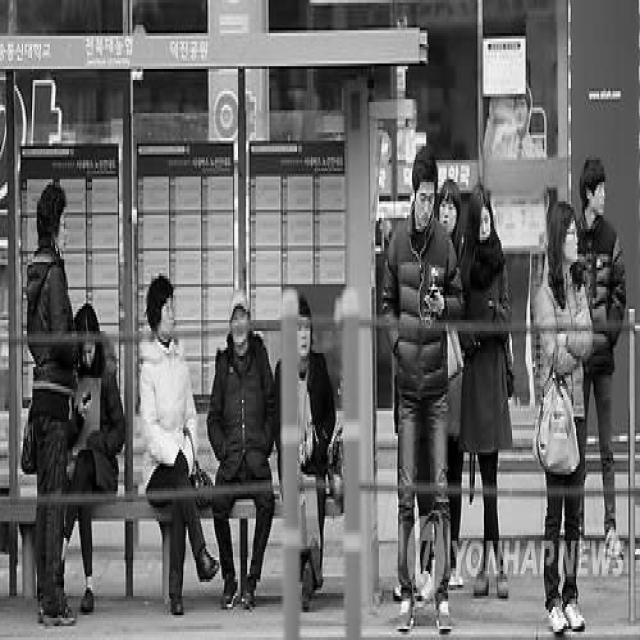person: (391, 146, 458, 640), (139, 266, 209, 625), (24, 170, 76, 632), (575, 148, 622, 590), (540, 194, 583, 640), (471, 162, 513, 616), (220, 290, 268, 610), (70, 293, 116, 603), (288, 301, 332, 606), (440, 196, 470, 552)
